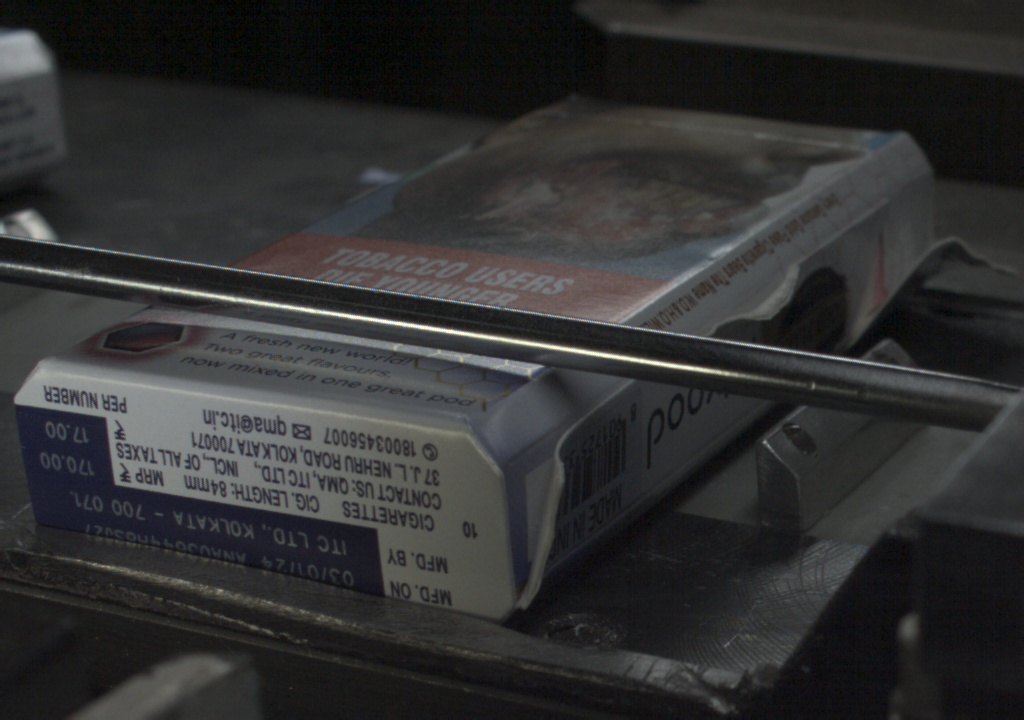g_bottom: (14, 358, 504, 620)
g_label: (28, 487, 385, 594)
ng_lmiter: (506, 429, 572, 612), (720, 262, 806, 329)
ng_miter: (882, 179, 1007, 288)
price: (23, 414, 113, 483)
